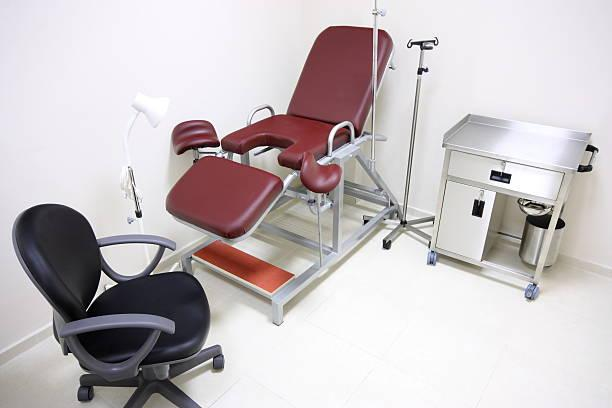Saline Stand: (380, 19, 446, 277)
bed: (144, 17, 407, 329)
chair: (0, 189, 228, 408)
tools_table: (422, 99, 604, 300)
